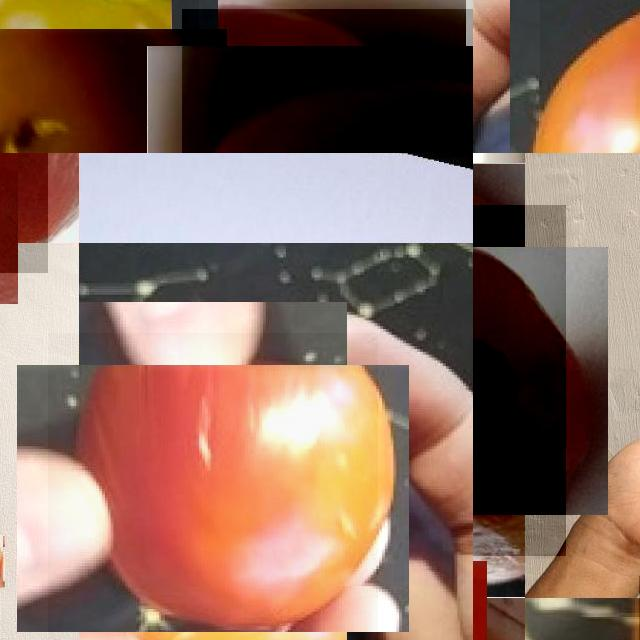0: (182, 9, 473, 153)
1: (0, 0, 199, 153)
Fresh Tomato: (540, 0, 640, 153)
Rotten Tomato: (48, 333, 378, 640), (473, 205, 566, 556), (0, 153, 48, 273)
